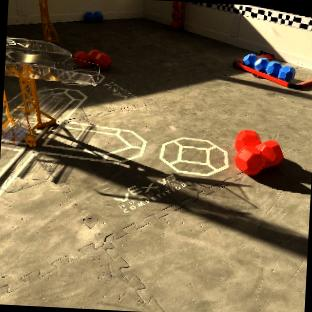Med_goal: (1, 36, 98, 146)
Parking-R: (233, 59, 312, 88)
V5_RED: (232, 129, 283, 174), (74, 49, 110, 69)
